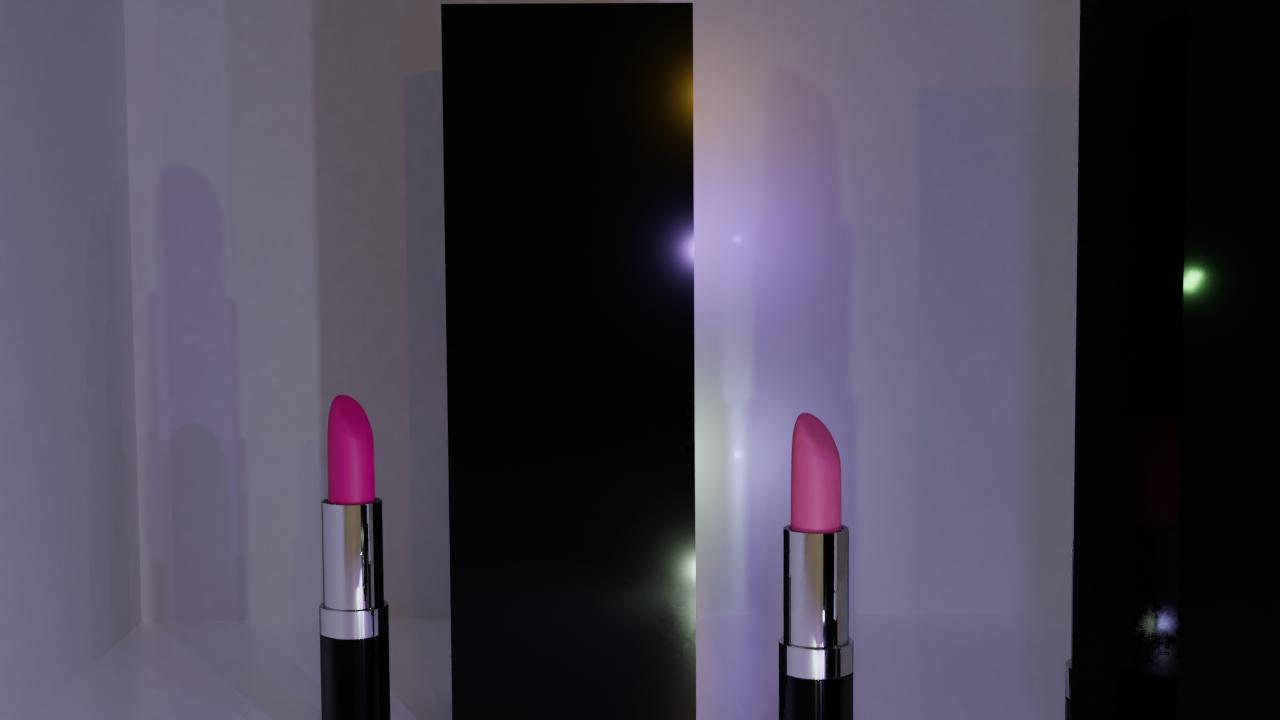CLASSIFIER_NAME: (318, 390, 393, 720), (777, 407, 855, 720)
